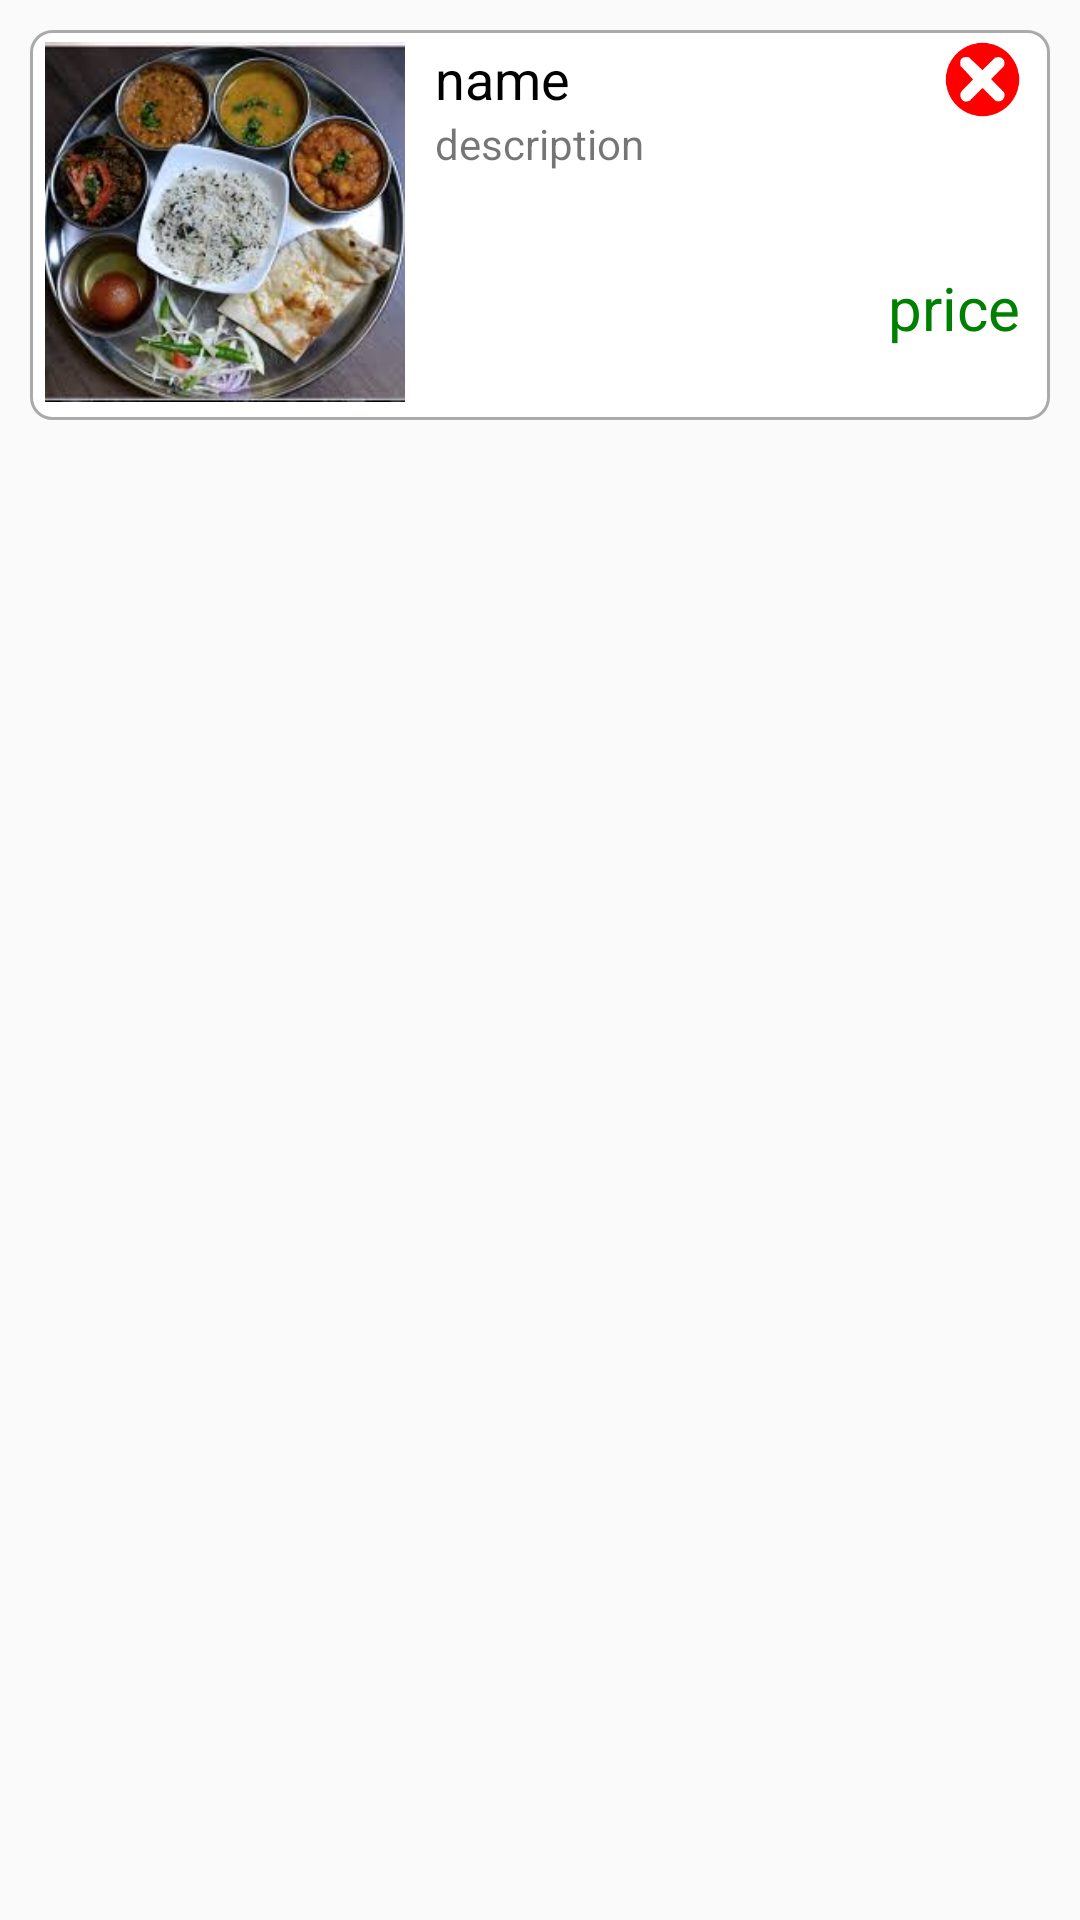

Icon bounding boxes for this 1080w x 1920h phone screenshot, format (x1, y1, x2, y2):
close: (945, 42, 1020, 117)
